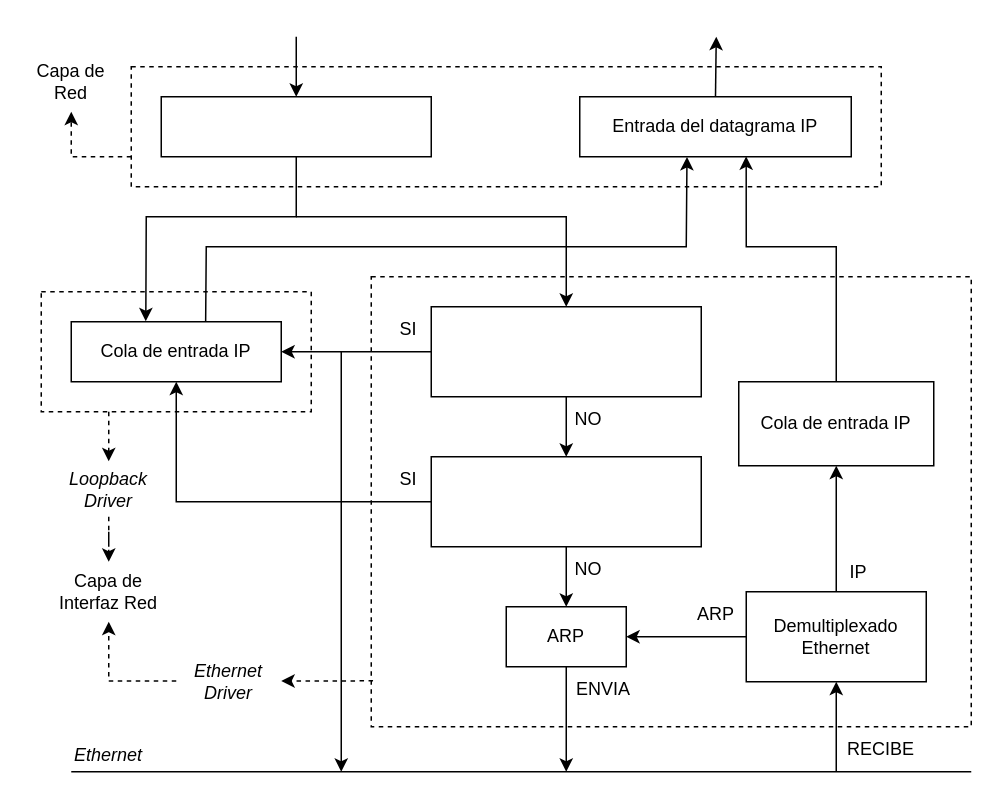
Some shapes in this 999 by 810 pixel diagram are drawn without their labels. Each missing label, with the centre of its shape:
"Salida del datagrama IP" goes at point (295, 126).
"¿La dirección IP de destino es broadcast o multicast ?" goes at point (565, 351).
"¿La dirección IP de destino es igual a la de interface ?" goes at point (565, 501).
